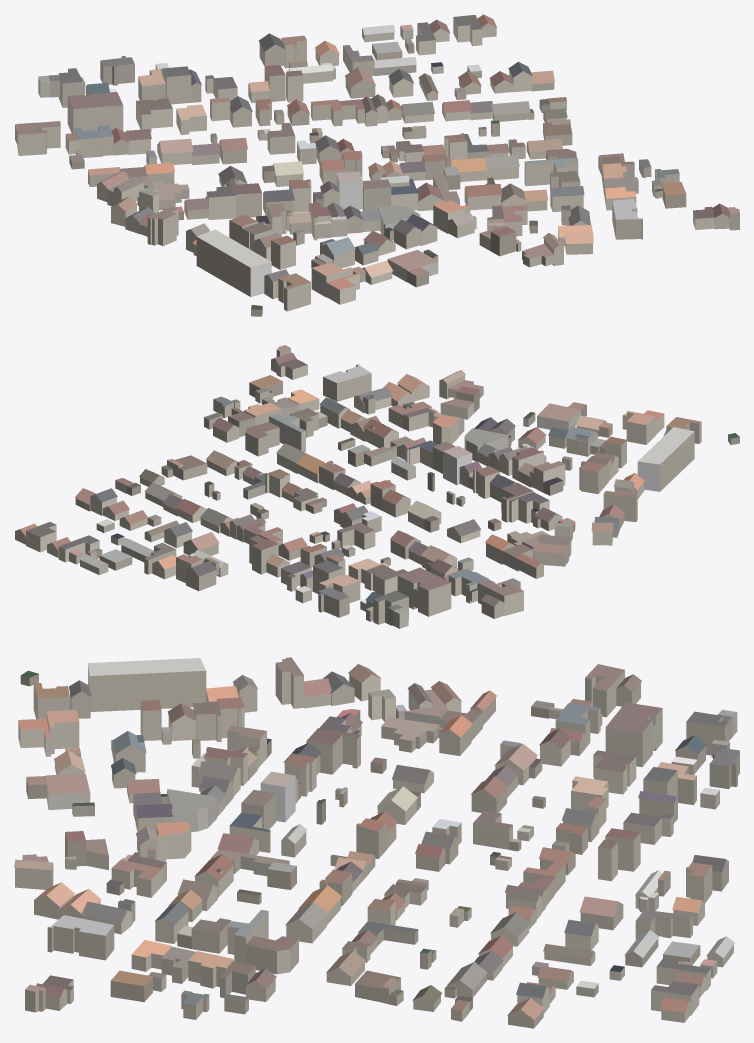
The picture shows the model from 3 angles, top to bottom: view 1: azimuth 30°, elevation 25°; view 2: azimuth 150°, elevation 25°; view 3: azimuth 270°, elevation 25°; orthographic projection. The views are drawn at different scales.
Parts seen in each view (by area): view 1: tuile; view 2: tuile; view 3: tuile.
Part boxes in pixels (box(x1,y1,x2,y2)): tuile: box(15, 14, 739, 316); tuile: box(15, 345, 739, 628); tuile: box(14, 657, 739, 1028).
Size of the model in its own units: 259 by 30.84 by 259.
